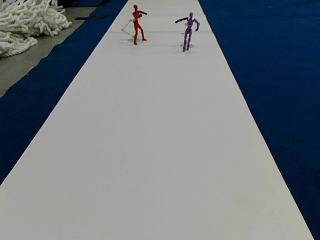pedestrian: (175, 11, 199, 50), (131, 4, 147, 44)
